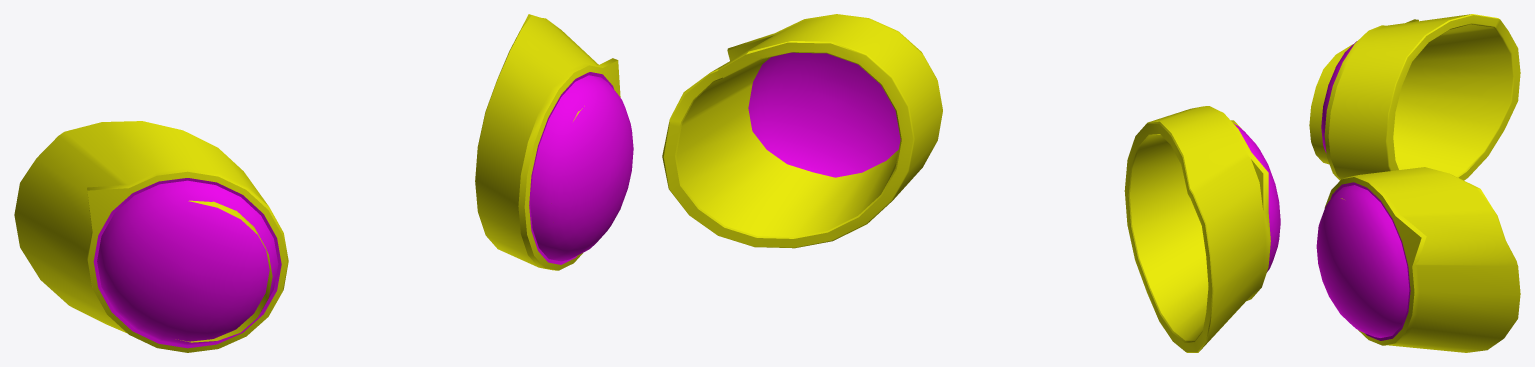
Rendered from CircularLargePart.fbx.
3 renders of one model, left to right at view 1: azimuth 30°, elevation 25°; view 2: azimuth 150°, elevation 25°; view 3: azimuth 270°, elevation 25°, orthographic. The views are drawn at different scales.
Visible parts, largest first — view 1: polySurface417; view 2: polySurface417; view 3: polySurface417.
Part boxes in pixels (x1,y1,x2,y2): polySurface417: (14, 14, 633, 352); polySurface417: (662, 14, 1280, 352); polySurface417: (1309, 14, 1520, 352).
Bounding box in the file's own units: 502 × 183 × 202.
